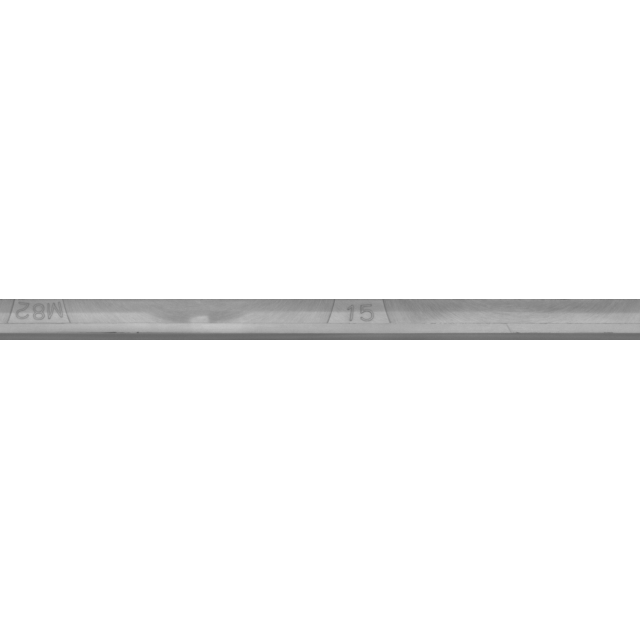mohao: (0, 270, 137, 370)
xuehao: (262, 270, 462, 370)
